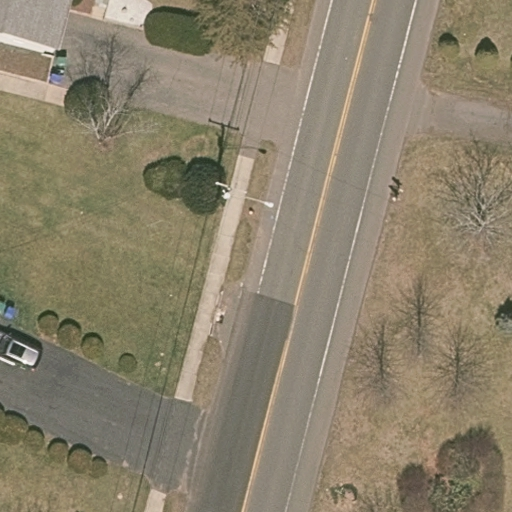DT: (215, 178, 250, 201)
